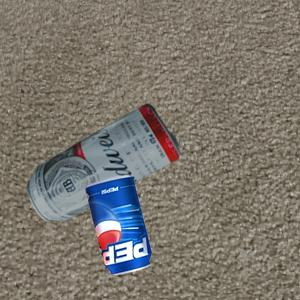can: (85, 176, 157, 277)
